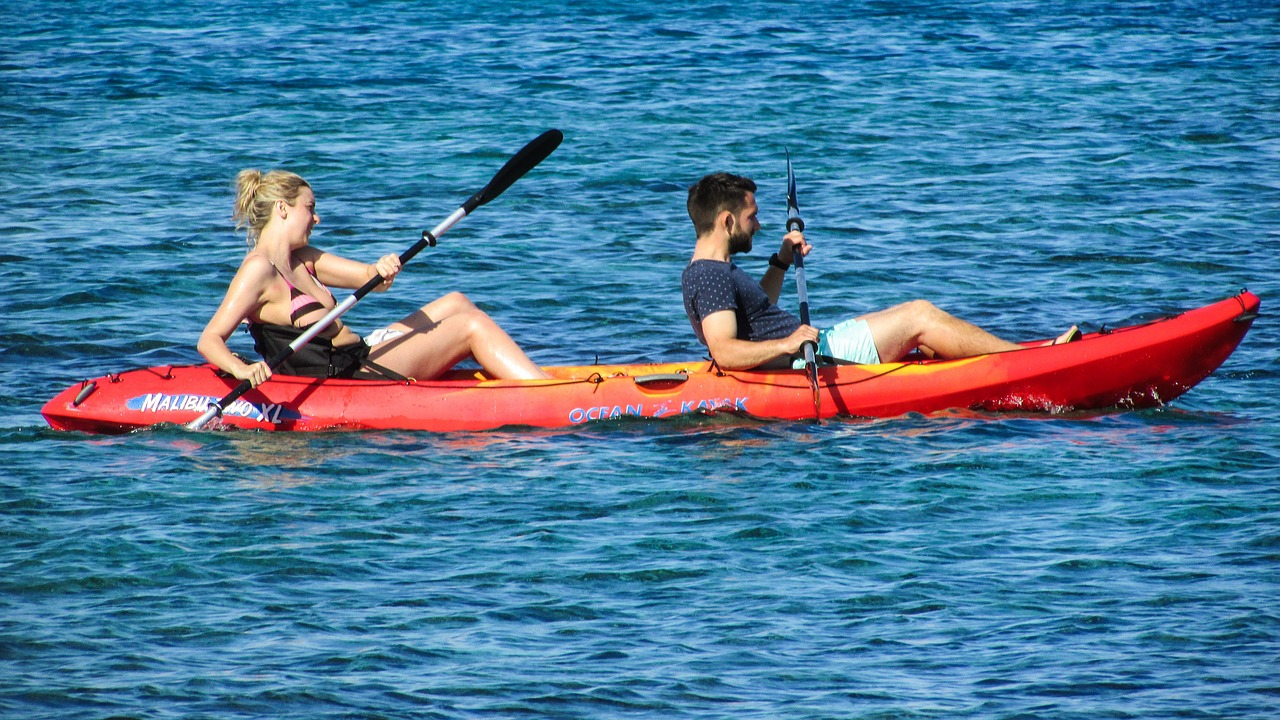kayak: (39, 281, 1257, 438)
